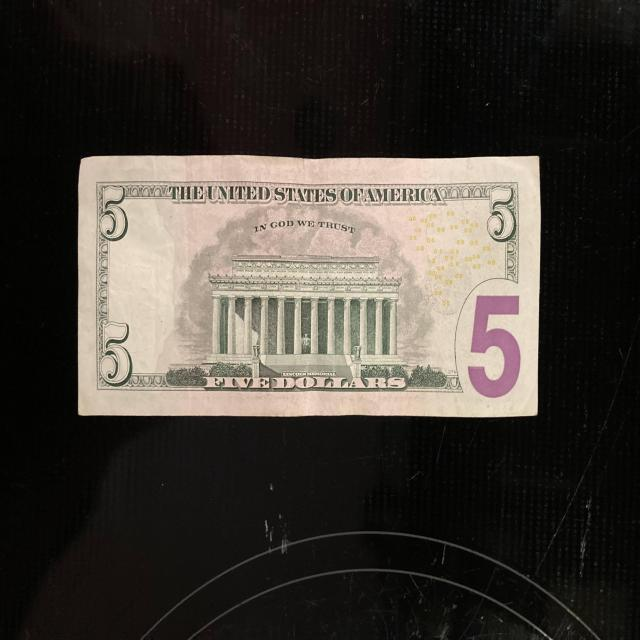five: (76, 155, 544, 419)
